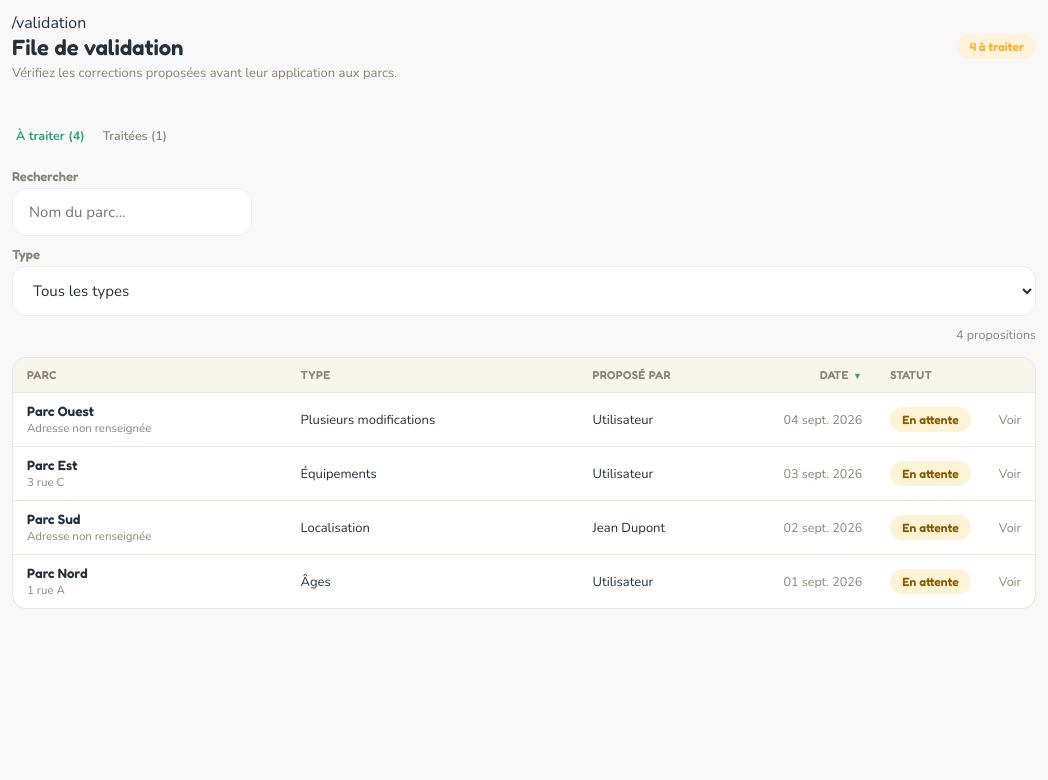
Test case: Validation — file de validation (Admin-3B-1) › l'onglet Traitées affiche les propositions non-pending avec leur statut
The image size is (1048, 780).
Check: the text "Parc Nord" is shown, box [27,565,88,581]
What coordinates should you click on to do the following:
click the tab "Traitées (1)"
I would click on:
 (135, 136)
Its box is [99,119,171,152].
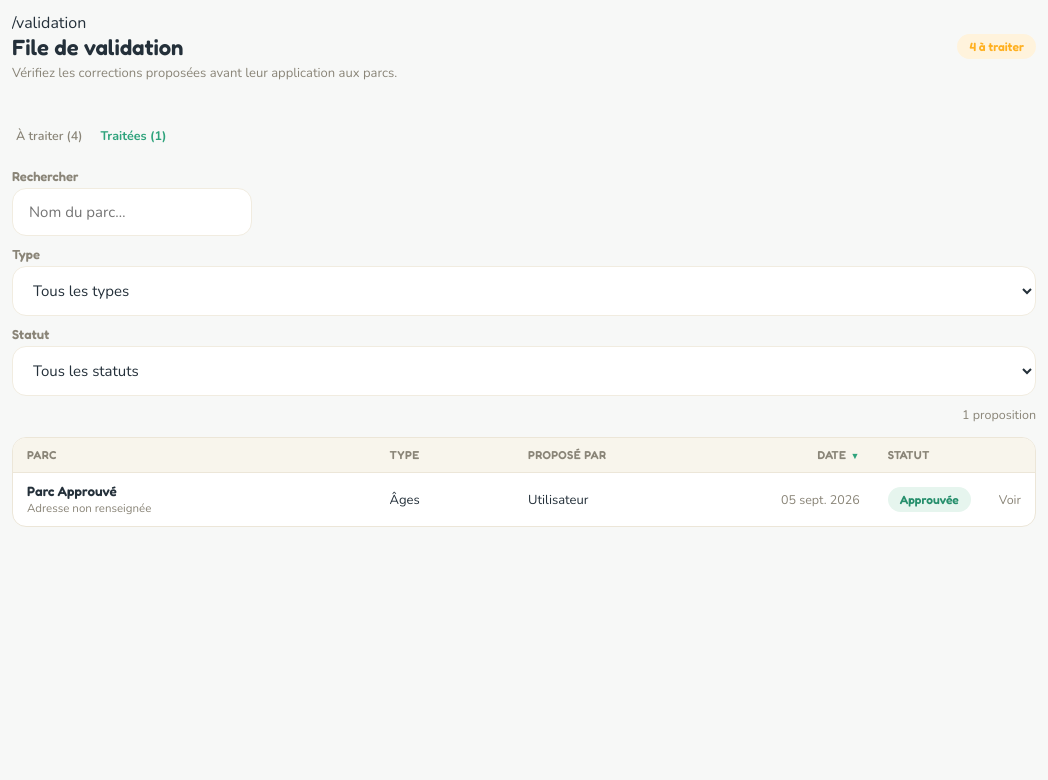
Check: the text "Parc Approuvé" shows "Approuvée", box [900,492,959,507]
Check: the button "Parc Nord" is gone
